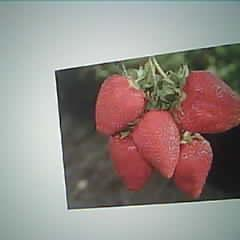straw-ripe: (180, 71, 240, 134), (134, 111, 180, 177), (96, 75, 145, 135), (174, 136, 213, 198)
